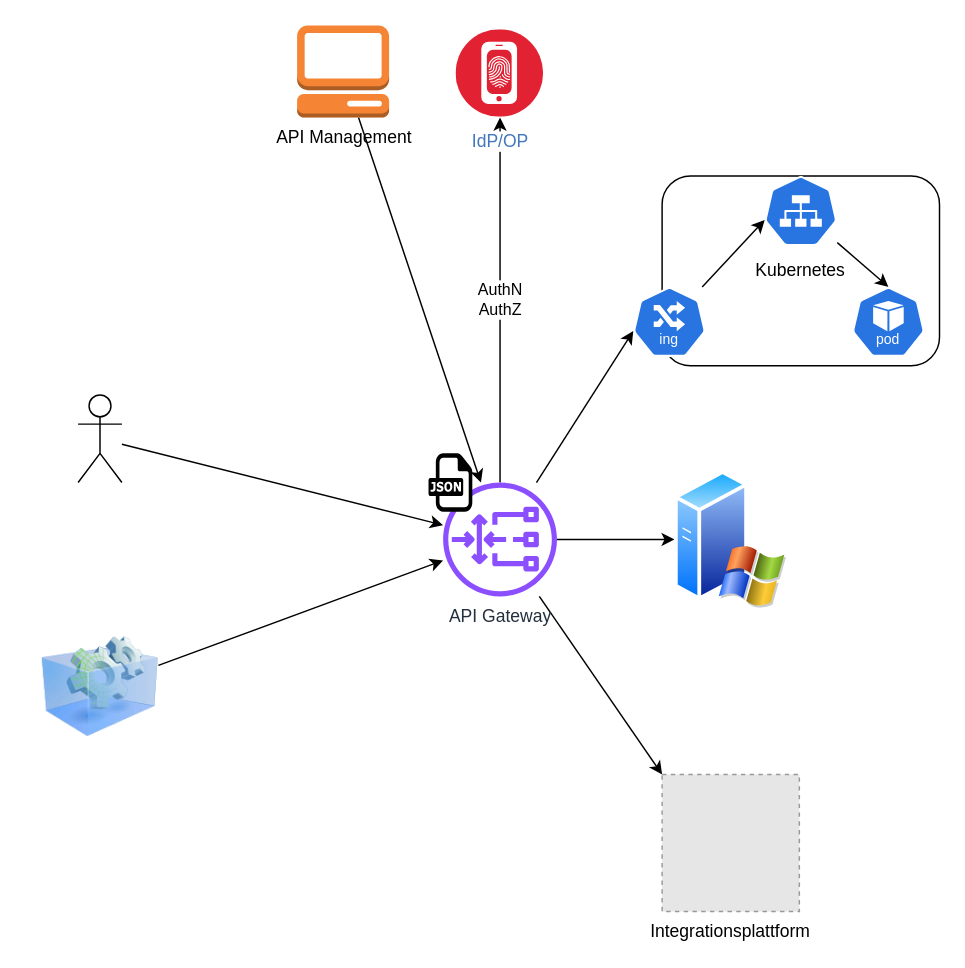
This 965x968 diagram has some shape labels left out. Grey dashed boxes stand in for pictures. Each missing label, with the centre of its shape:
Användare: the point at 99,438
API på traditionell driftplattform: the point at 730,539
System/Applikation: the point at 99,686
